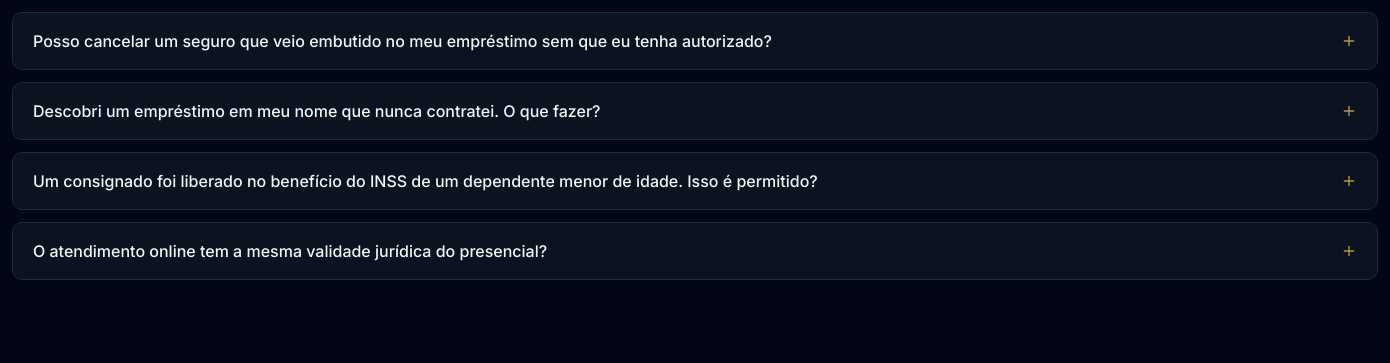
Test: Faq › abrir uma pergunta fecha a que estava aberta antes (só 1 por vez)
Click the button named "Posso cancelar um seguro que veio embutido no meu empréstimo sem que eu tenha autorizado?" at (695, 41), box left=13, top=13, right=1377, bottom=69
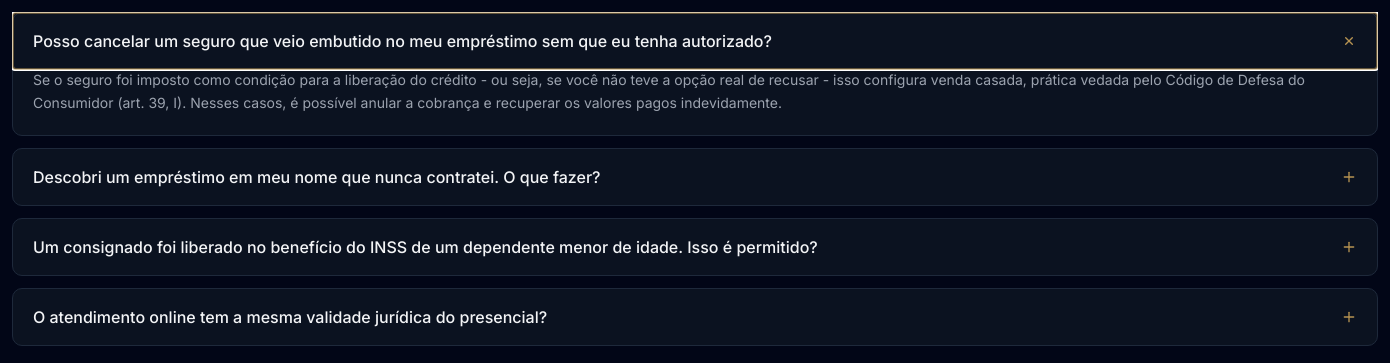
Result: the text "Se o seguro foi imposto como condição" is shown at left=33, top=71, right=1305, bottom=111
Click the button "Descobri um empréstimo em meu nome que nunca contratei. O que fazer?" at (317, 176), box left=13, top=148, right=1377, bottom=204
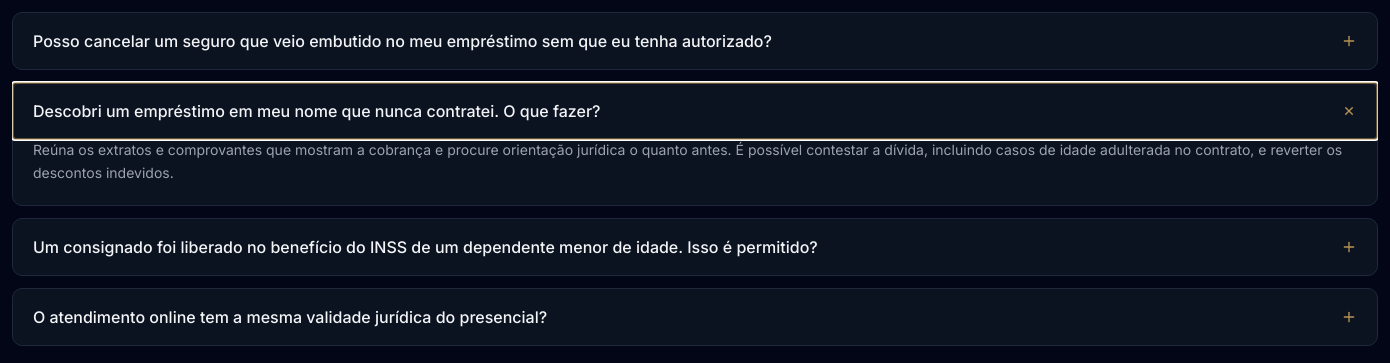
Result: the text "Reúna os extratos e comprovantes" is shown at left=33, top=141, right=1342, bottom=181
Result: the text "Se o seguro foi imposto como condição" is gone
